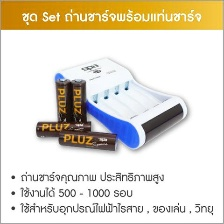battery: (56, 128, 120, 157), (52, 73, 75, 131), (32, 119, 95, 140), (66, 75, 89, 131)
